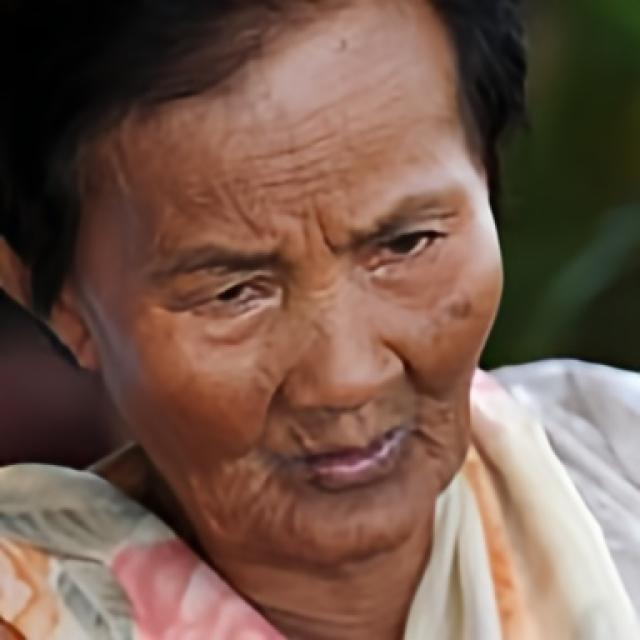anger: (80, 1, 504, 564)
